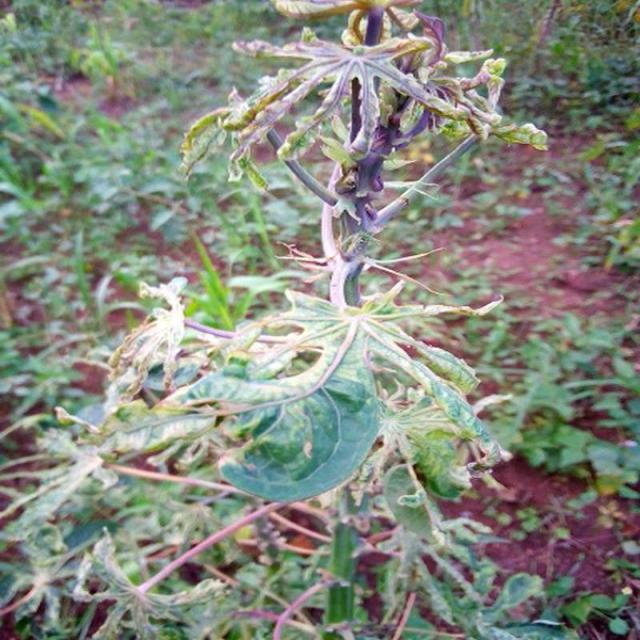cassava leaf: (218, 316, 382, 503)
